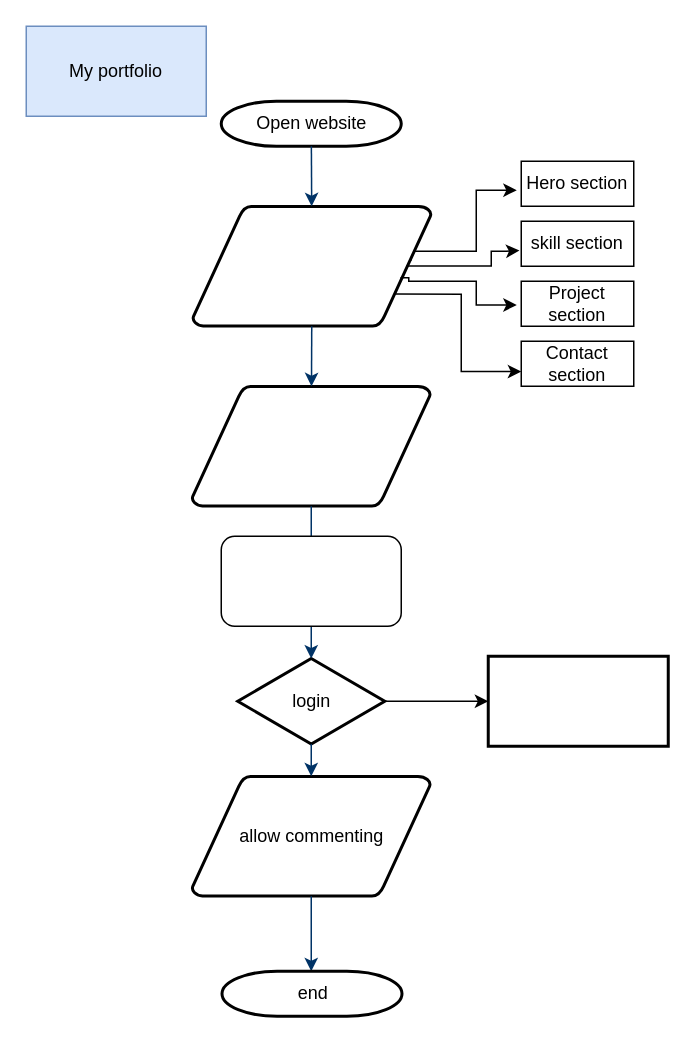
This 696x1044 diagram has some shape labels left out. The centre of each missing label's shape, as x and y in pixels:
"blog page" belongs at (x=310, y=445).
"homepage" belongs at (x=311, y=265).
"registration page" belongs at (x=577, y=700).
"single post" belongs at (x=310, y=580).
